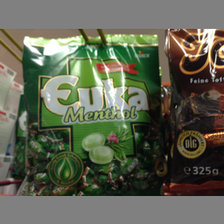candy: (21, 36, 163, 194)
